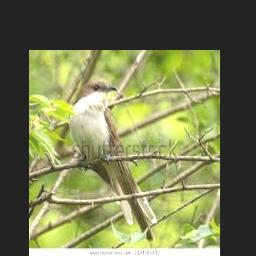Cuckoo: (70, 78, 158, 241)
